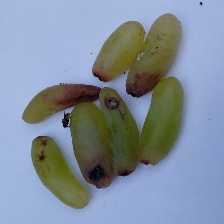grapes: (5, 43, 204, 220)
